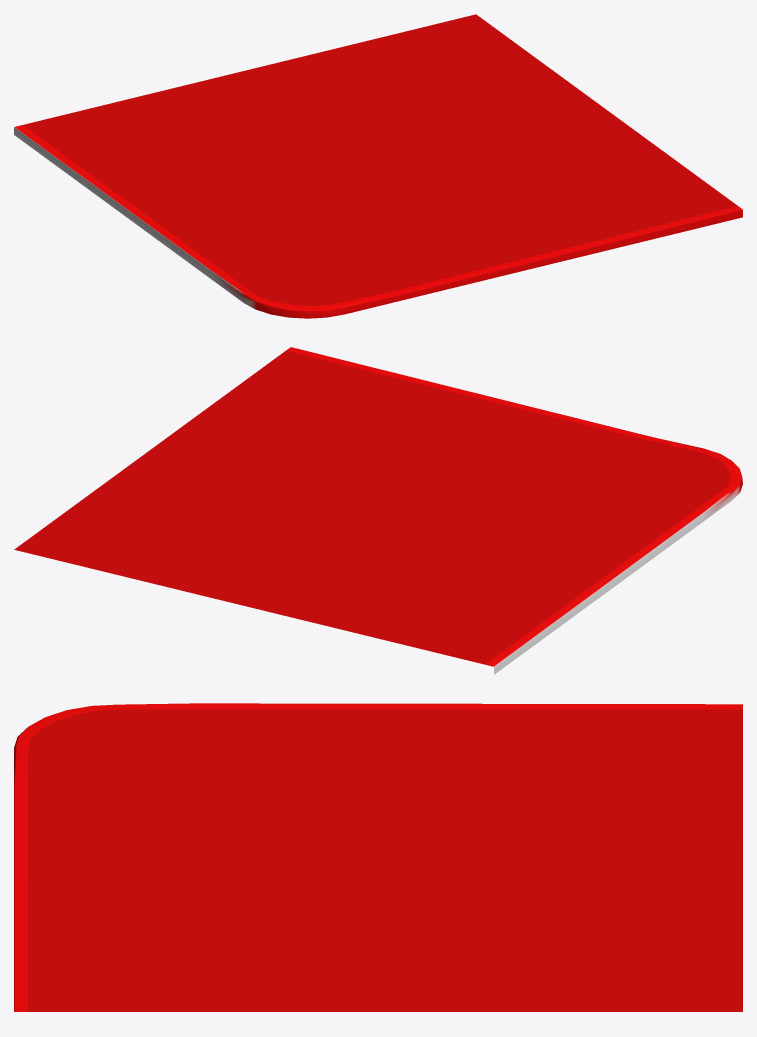
File: SM_Pavement_12m_L_small.fbx
The picture shows the model from 3 angles, top to bottom: view 1: azimuth 30°, elevation 25°; view 2: azimuth 150°, elevation 25°; view 3: azimuth 270°, elevation 25°; orthographic projection. The views are drawn at different scales.
Parts seen in each view (by area): view 1: SM_Pavement_12m_L_small_LOD0; view 2: SM_Pavement_12m_L_small_LOD0; view 3: SM_Pavement_12m_L_small_LOD0.
Part boxes in pixels (bbox=[...]): SM_Pavement_12m_L_small_LOD0: bbox=[14, 14, 742, 318]; SM_Pavement_12m_L_small_LOD0: bbox=[14, 347, 742, 674]; SM_Pavement_12m_L_small_LOD0: bbox=[14, 703, 742, 1011].
Size of the model in its own units: 1200 by 1200 by 20.87.
